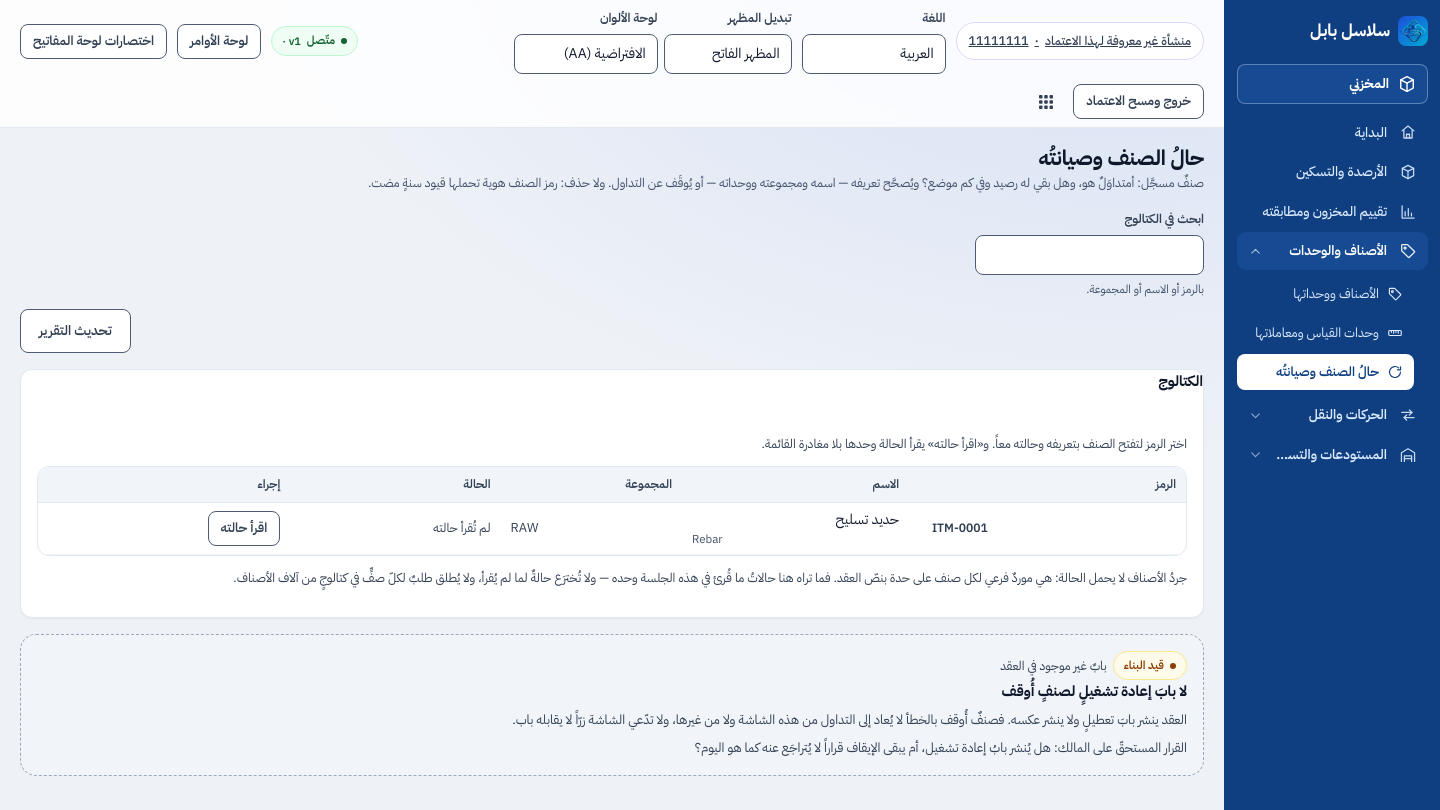
الأبواب التي لم يكن يبلغها شيء › deactivateItem يُرسَل بعد خطوتين، وجوابُه يُسمّي ما بقي من رصيد
Expected: the element with test id "life-table" is shown, [37, 466, 1187, 556]
Click the button with test id "life-pick".
click(960, 528)  # box [919, 512, 1001, 545]
(page scrolled)
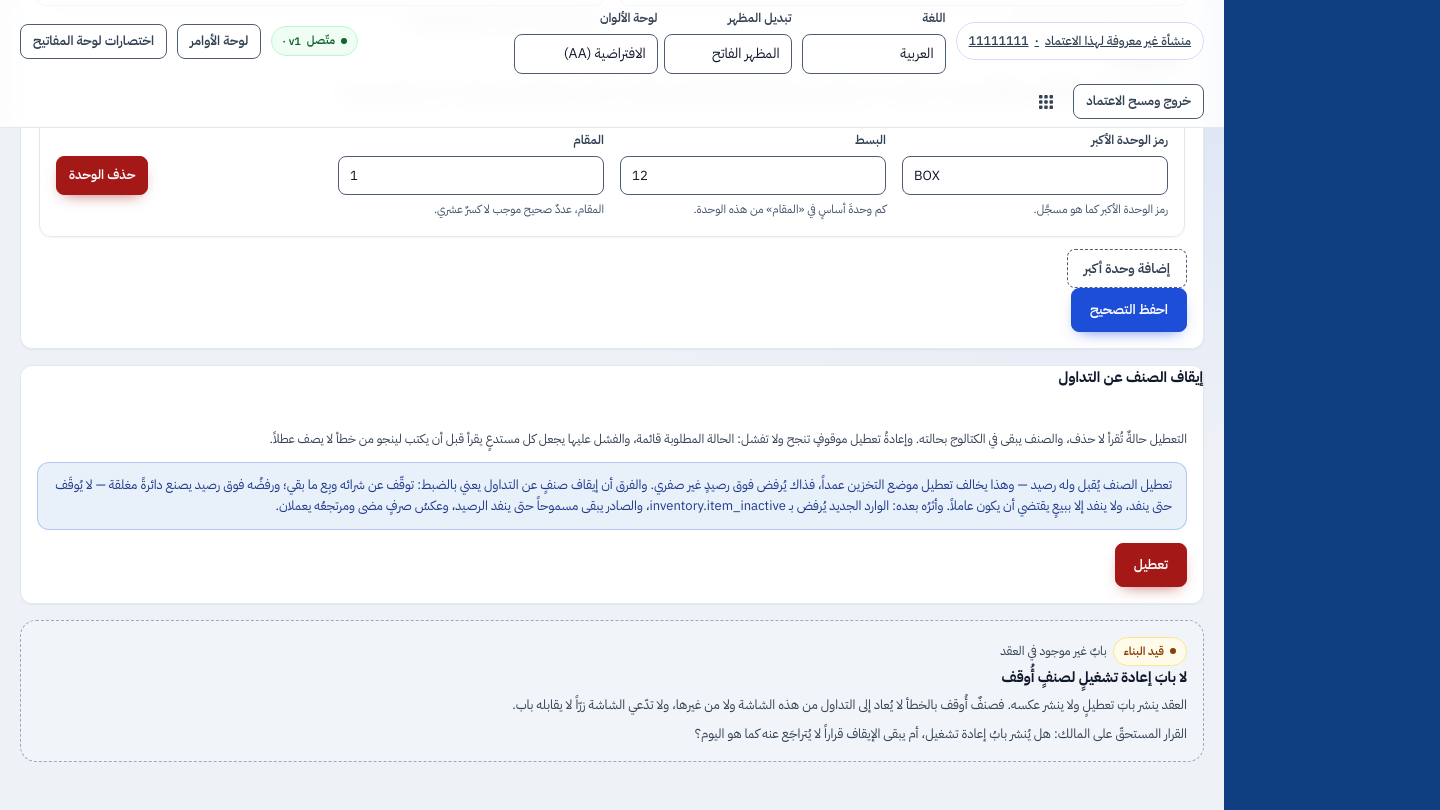
Expected: the element with test id "life-stop-form" is shown, [20, 365, 1204, 604]
Click the button with test id "life-deactivate".
click(1151, 565)  # box [1115, 543, 1187, 587]
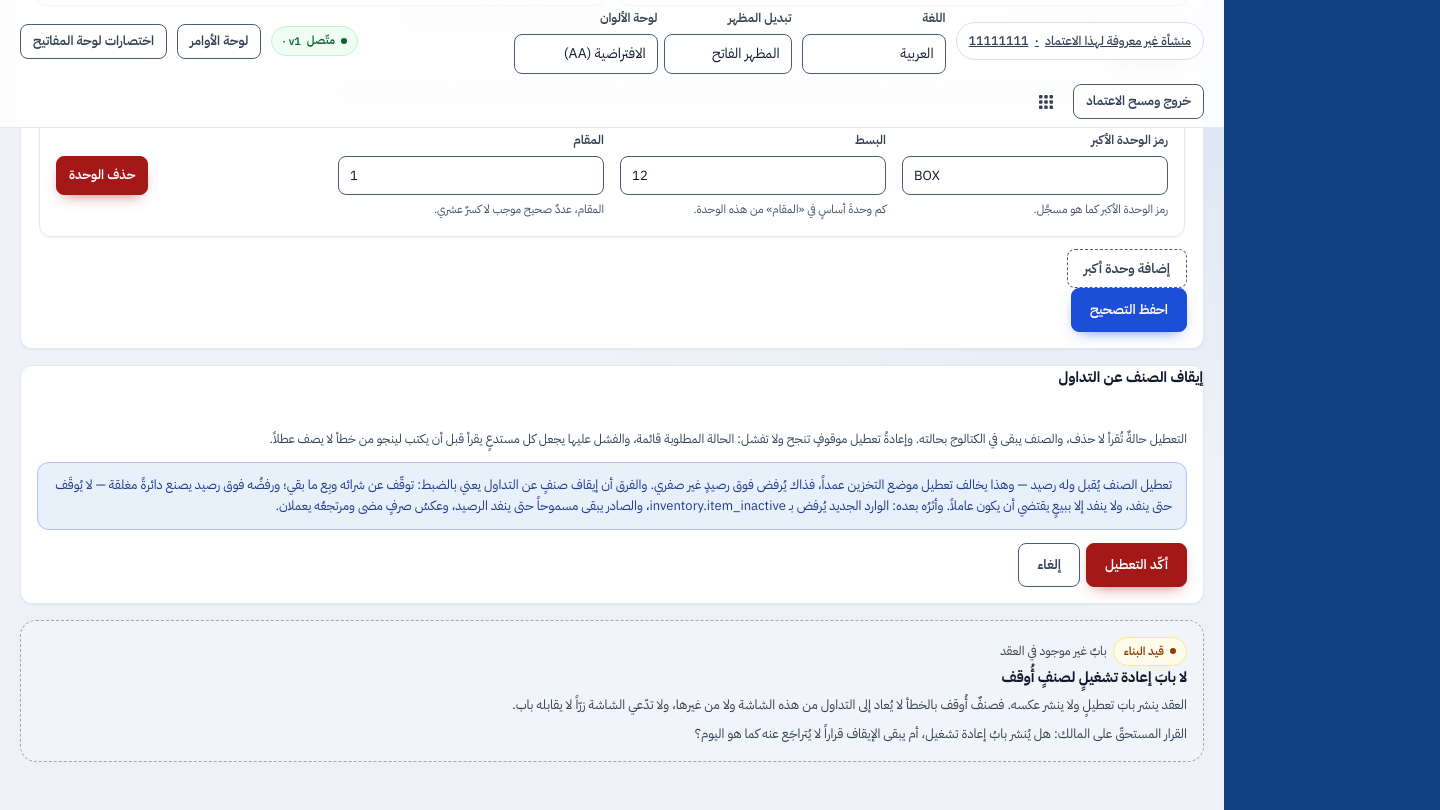
Expected: the element with test id "life-confirm" is shown, [1018, 543, 1187, 587]
Click the button with test id "life-confirm-off".
click(1136, 565)  # box [1086, 543, 1187, 587]
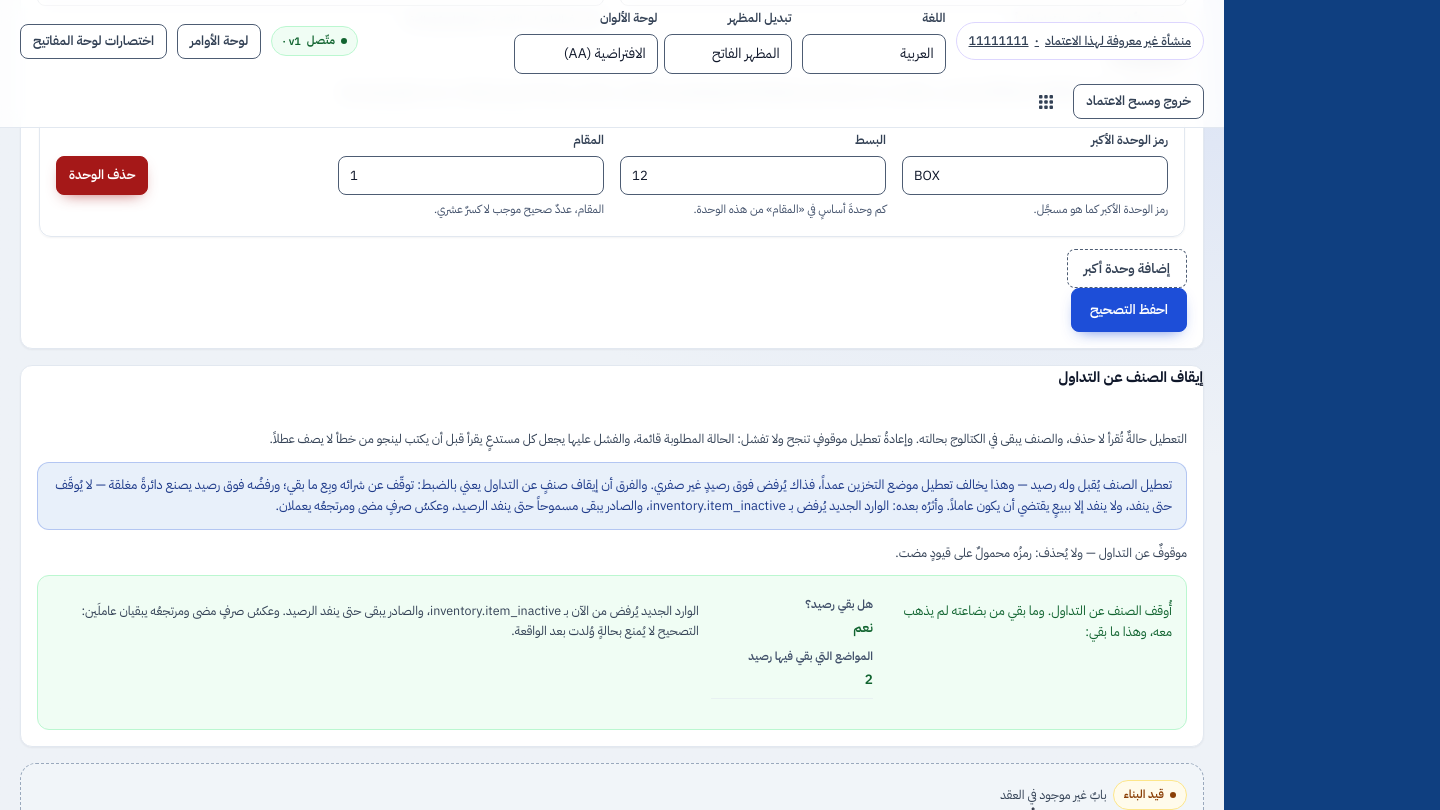
Expected: the message with test id "life-stopped" is shown, [37, 576, 1187, 730]
Expected: the message with test id "life-stopped" shows "inventory.item_inactive", [81, 601, 699, 640]
